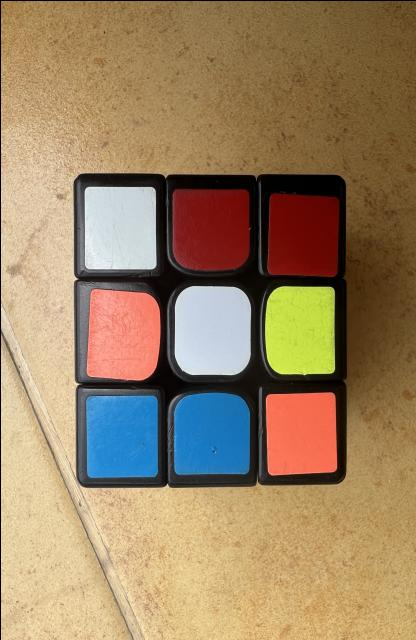Blue: (172, 391, 249, 474), (86, 394, 157, 478)
Orange: (86, 288, 159, 380), (264, 391, 336, 475)
Red: (171, 188, 249, 270), (266, 192, 338, 275)
White: (173, 285, 250, 375), (83, 186, 156, 269)
Yellow: (264, 285, 335, 374)
